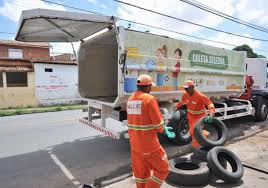tire: (206, 146, 245, 184), (161, 157, 210, 186), (193, 116, 229, 148), (169, 110, 199, 147), (192, 145, 228, 162), (253, 95, 268, 119)
